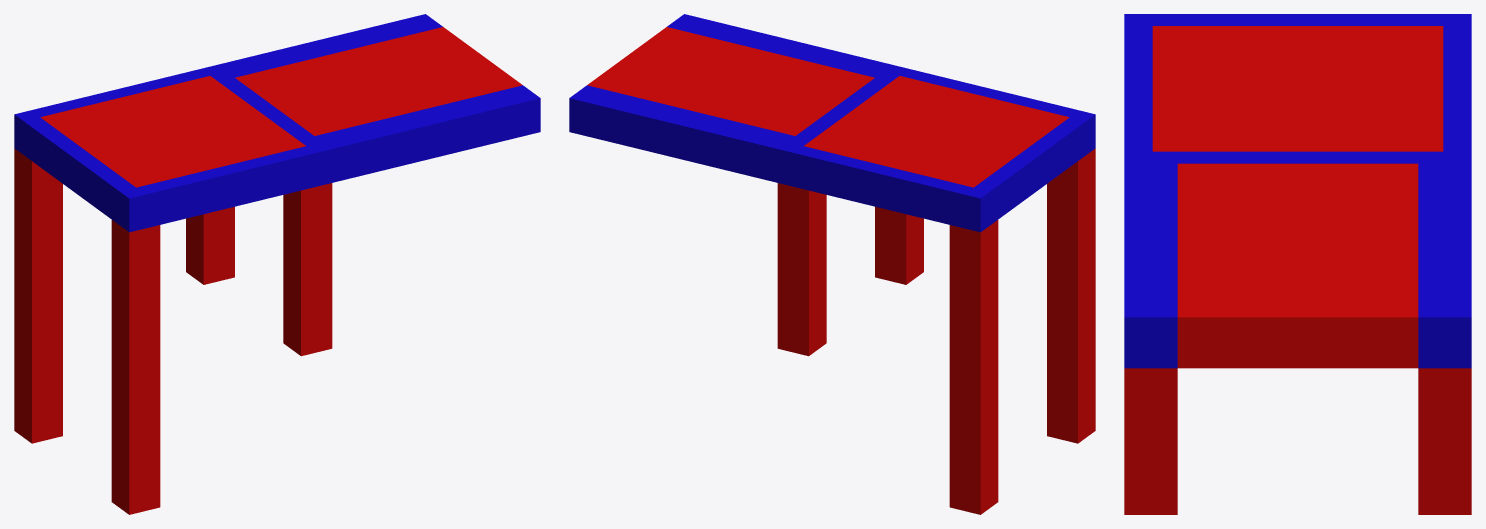
The model's file is PlateformeSol02.FBX.
The picture shows the model from 3 angles, left to right: view 1: azimuth 30°, elevation 25°; view 2: azimuth 150°, elevation 25°; view 3: azimuth 270°, elevation 25°; orthographic projection. The views are drawn at different scales.
Parts seen in each view (by area): view 1: PlateformeSol02; view 2: PlateformeSol02; view 3: PlateformeSol02.
Boxes of the visible parts, x1,y1,x2,y2 form: PlateformeSol02: [14, 14, 540, 514]; PlateformeSol02: [569, 14, 1095, 514]; PlateformeSol02: [1124, 14, 1471, 514].
Size of the model in its own units: 296 by 217 by 143.
